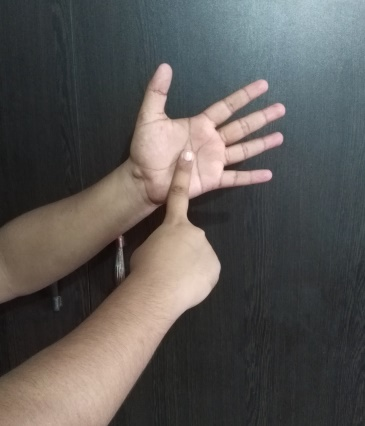oo: (132, 62, 288, 300)
